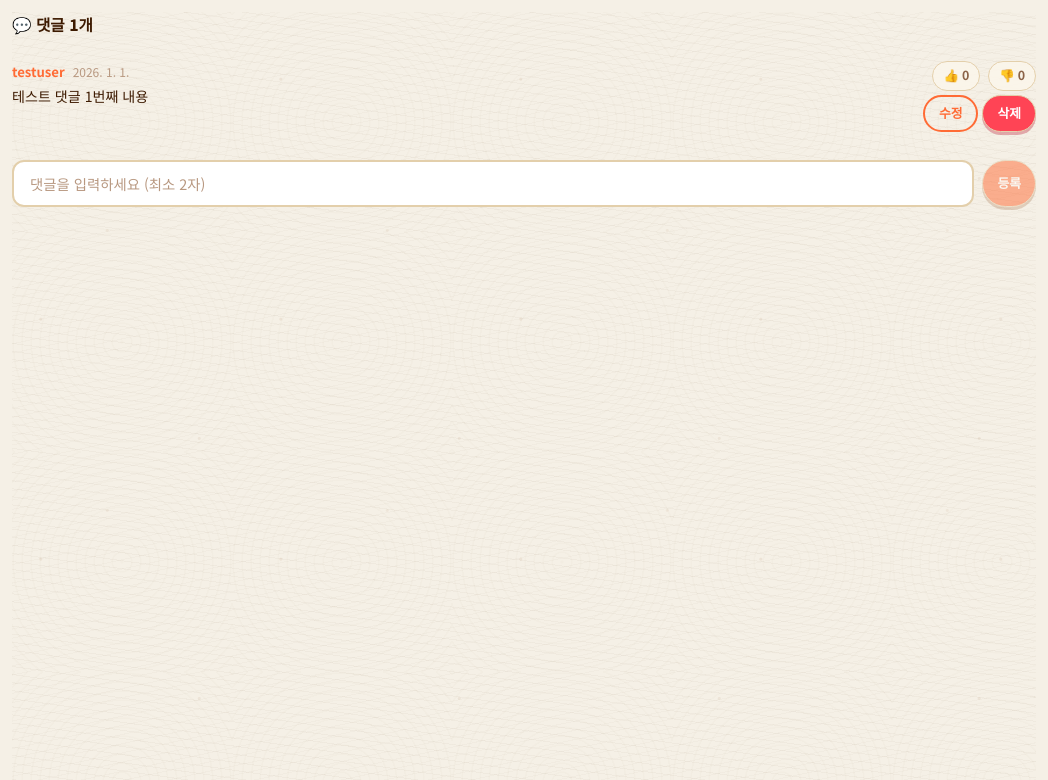
Test: RecommendationCommentSection › 댓글 수정·삭제 권한 › 수정 버튼 클릭 시 인라인 편집 모드가 된다
The width and height of the screenshot is (1048, 780).
Click the button "수정": (951, 113) [923,95,978,132]
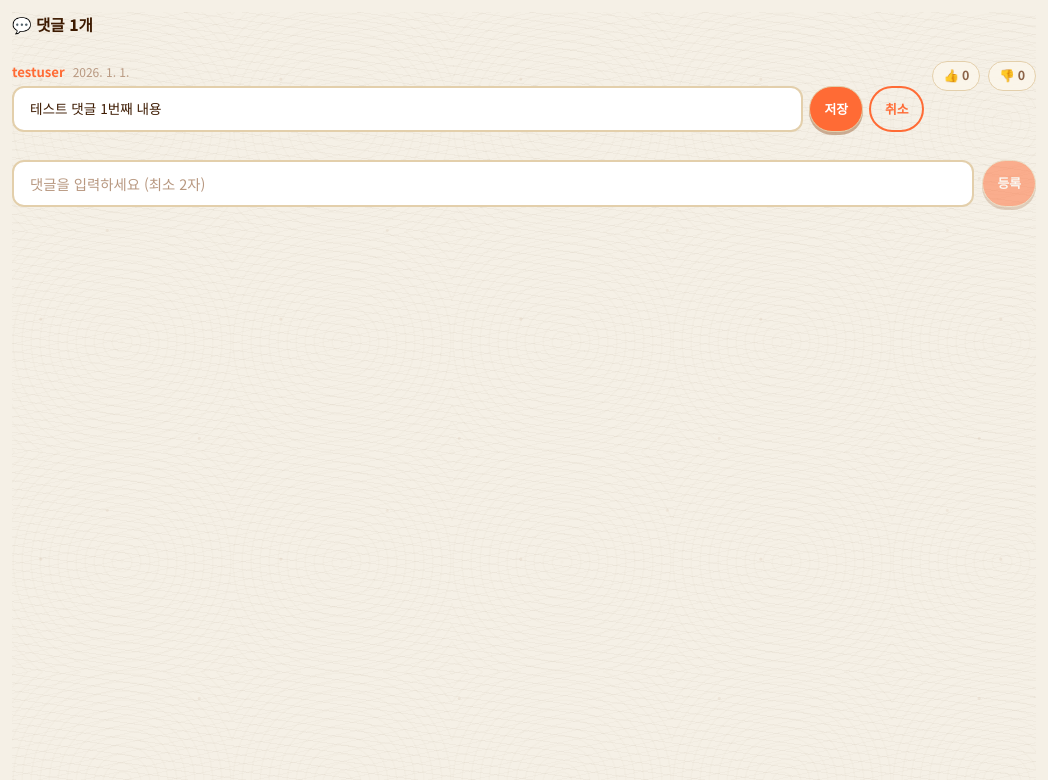
Check: the button "저장" is shown, box [809,86,863,132]
Check: the button "취소" is shown, box [869,86,924,132]
